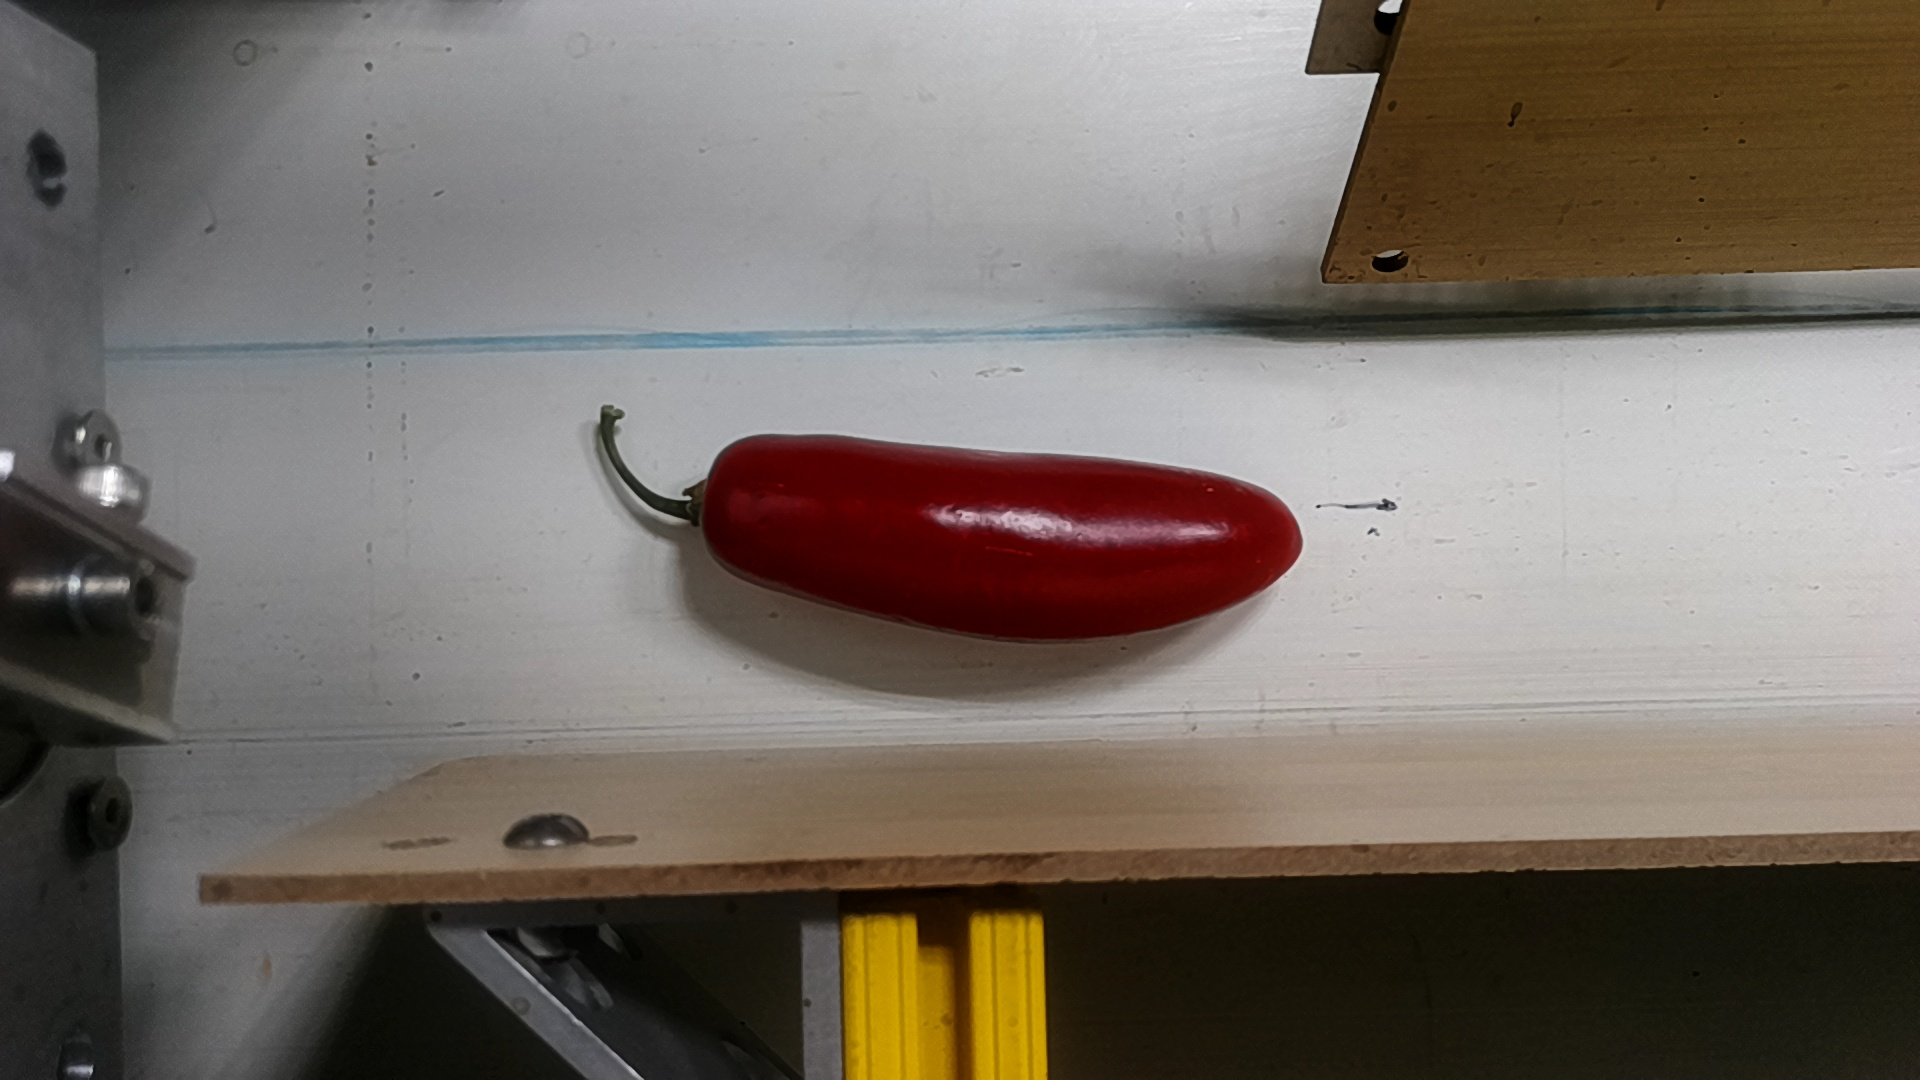Cut Point: (667, 425, 767, 585)
